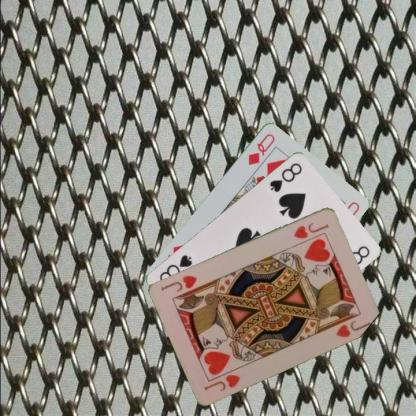8s: (267, 160, 303, 194)
Jh: (202, 364, 242, 392), (290, 219, 330, 240)
Qd: (245, 130, 276, 166)
